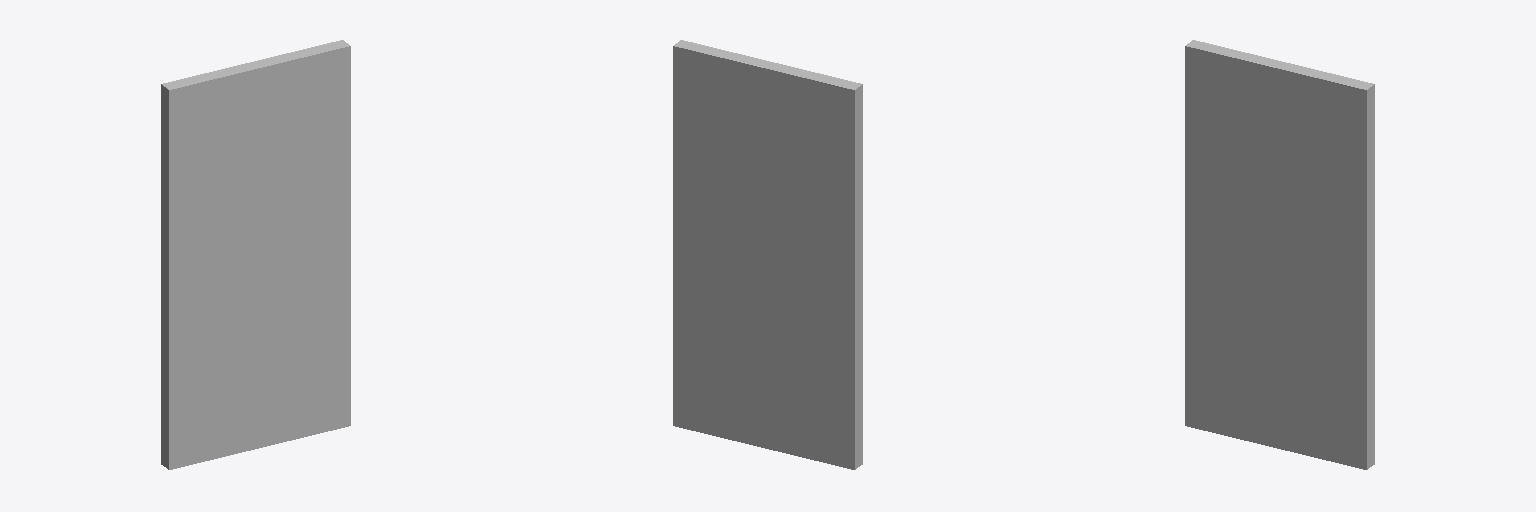
File: door.obj
3 views of the same model, side by side, from view 1: azimuth 30°, elevation 25°; view 2: azimuth 150°, elevation 25°; view 3: azimuth 330°, elevation 25° (orthographic).
Visible parts, largest first — view 1: Cube.001; view 2: Cube.001; view 3: Cube.001.
Boxes of the visible parts, box(x1,y1,x2,y2) form: Cube.001: box(161, 40, 350, 469); Cube.001: box(673, 40, 862, 469); Cube.001: box(1185, 40, 1374, 469).
Size of the model in its own units: 125 by 251 by 10.